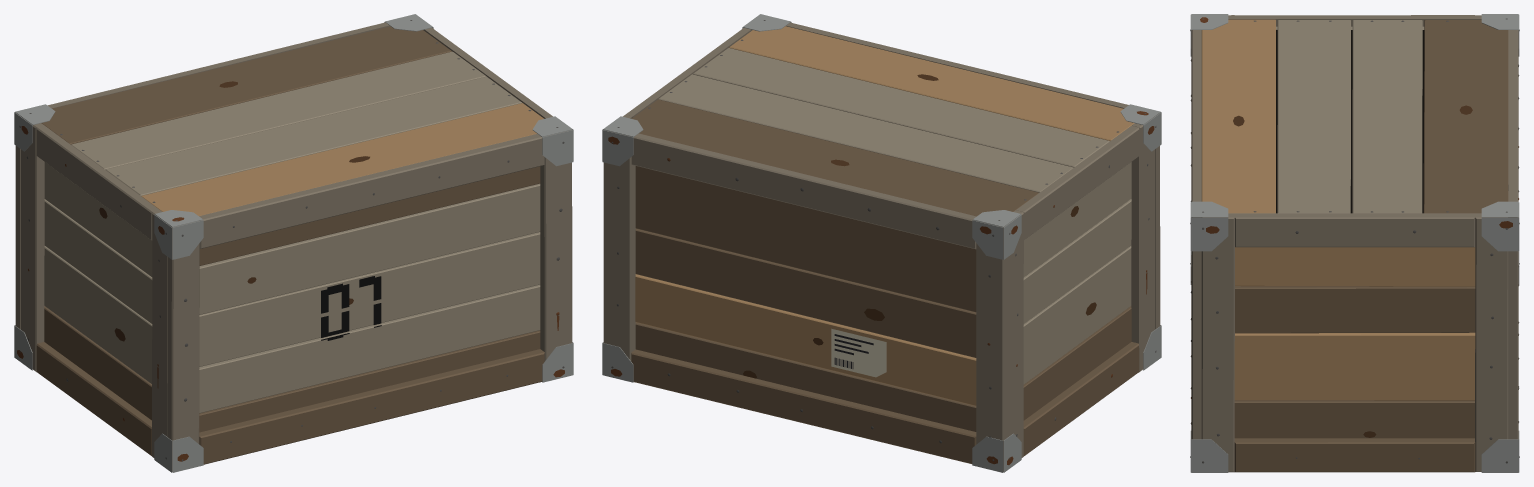
The model's file is crate_b.glb.
3 views of the same model, side by side, from view 1: azimuth 30°, elevation 25°; view 2: azimuth 150°, elevation 25°; view 3: azimuth 270°, elevation 25° (orthographic). The views are drawn at different scales.
Visible parts, largest first — view 1: kiste; view 2: kiste; view 3: kiste.
Boxes of the visible parts, box(x1,y1,x2,y2) form: kiste: box(14, 14, 573, 472); kiste: box(602, 14, 1161, 472); kiste: box(1190, 14, 1519, 472).
Bounding box in the file's own units: 0.945 × 0.5531 × 0.645.
